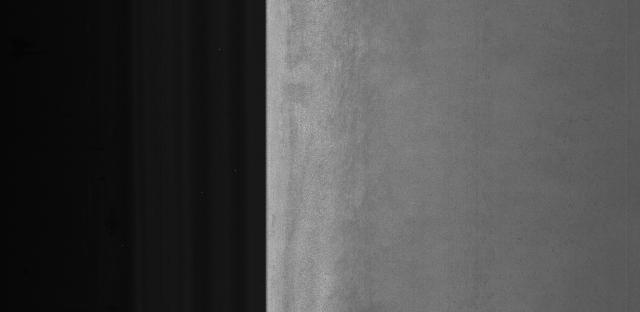silk_spot: (328, 72, 391, 286)
